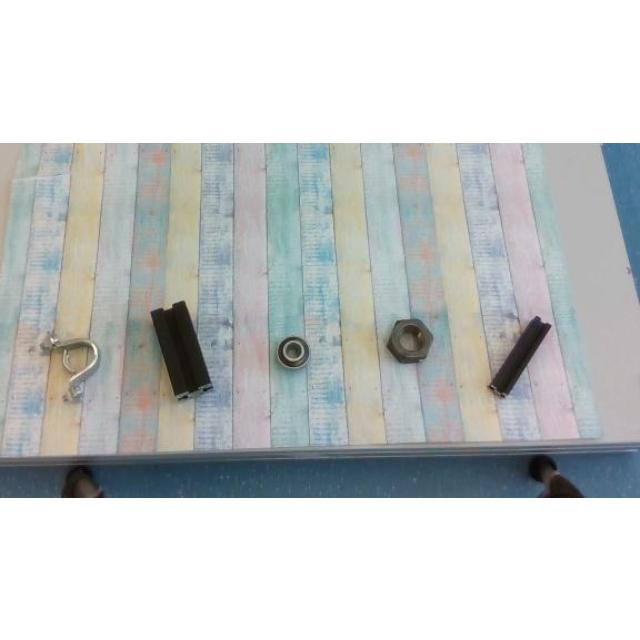Bearing2: (277, 336, 309, 366)
Housing: (40, 333, 100, 401)
M30: (386, 318, 432, 362)
S40_40_B: (150, 300, 212, 398)
